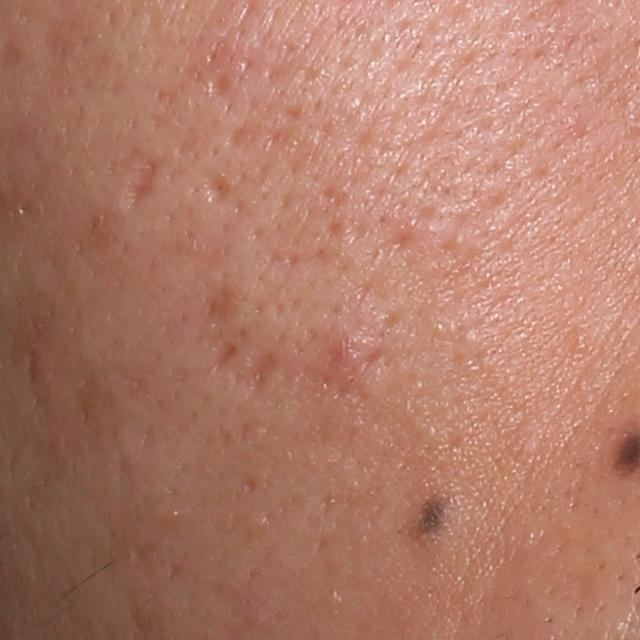atrophic_scar: (224, 350, 285, 404), (127, 152, 162, 209), (202, 173, 236, 211), (209, 339, 241, 377), (205, 66, 235, 105), (223, 123, 261, 153)
nevus: (403, 476, 462, 550)
